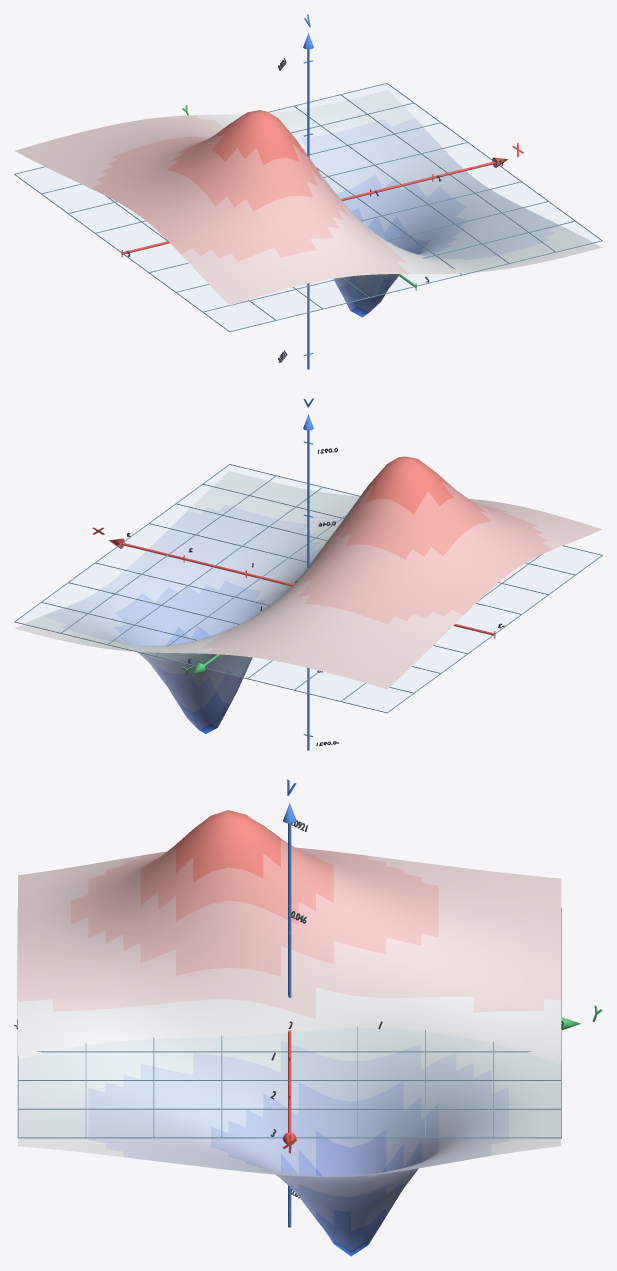
Rendered from 5points_observation_V.glb.
3 views of the same model, one above another, from view 1: azimuth 30°, elevation 25°; view 2: azimuth 150°, elevation 25°; view 3: azimuth 270°, elevation 25° (orthographic). The views are drawn at different scales.
Visible parts, largest first — view 1: Potential_Surface_V, Grid, Axis_X, Axis_V; view 2: Potential_Surface_V, Grid, Axis_X, Axis_V; view 3: Potential_Surface_V, Grid, Axis_V.
Boxes of the visible parts, bbox=[...] form: Potential_Surface_V: bbox=[15, 90, 601, 317]; Grid: bbox=[14, 83, 602, 332]; Axis_X: bbox=[121, 161, 495, 254]; Axis_V: bbox=[307, 49, 309, 369]; Potential_Surface_V: bbox=[15, 456, 601, 733]; Grid: bbox=[14, 464, 602, 713]; Axis_X: bbox=[121, 542, 494, 635]; Axis_V: bbox=[307, 430, 309, 750]; Potential_Surface_V: bbox=[18, 810, 561, 1256]; Grid: bbox=[17, 907, 561, 1138]; Axis_V: bbox=[288, 823, 291, 1227].
Bounding box in the file's own units: 6.51 × 5.42 × 6.5.
